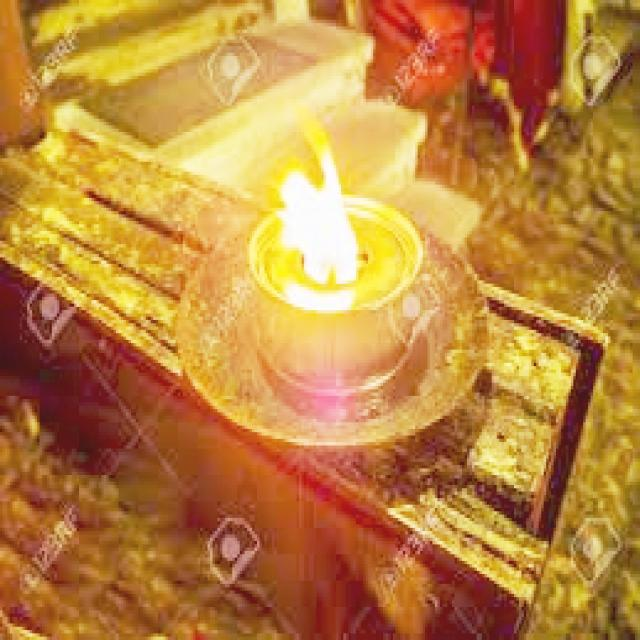api: (273, 153, 367, 295)
